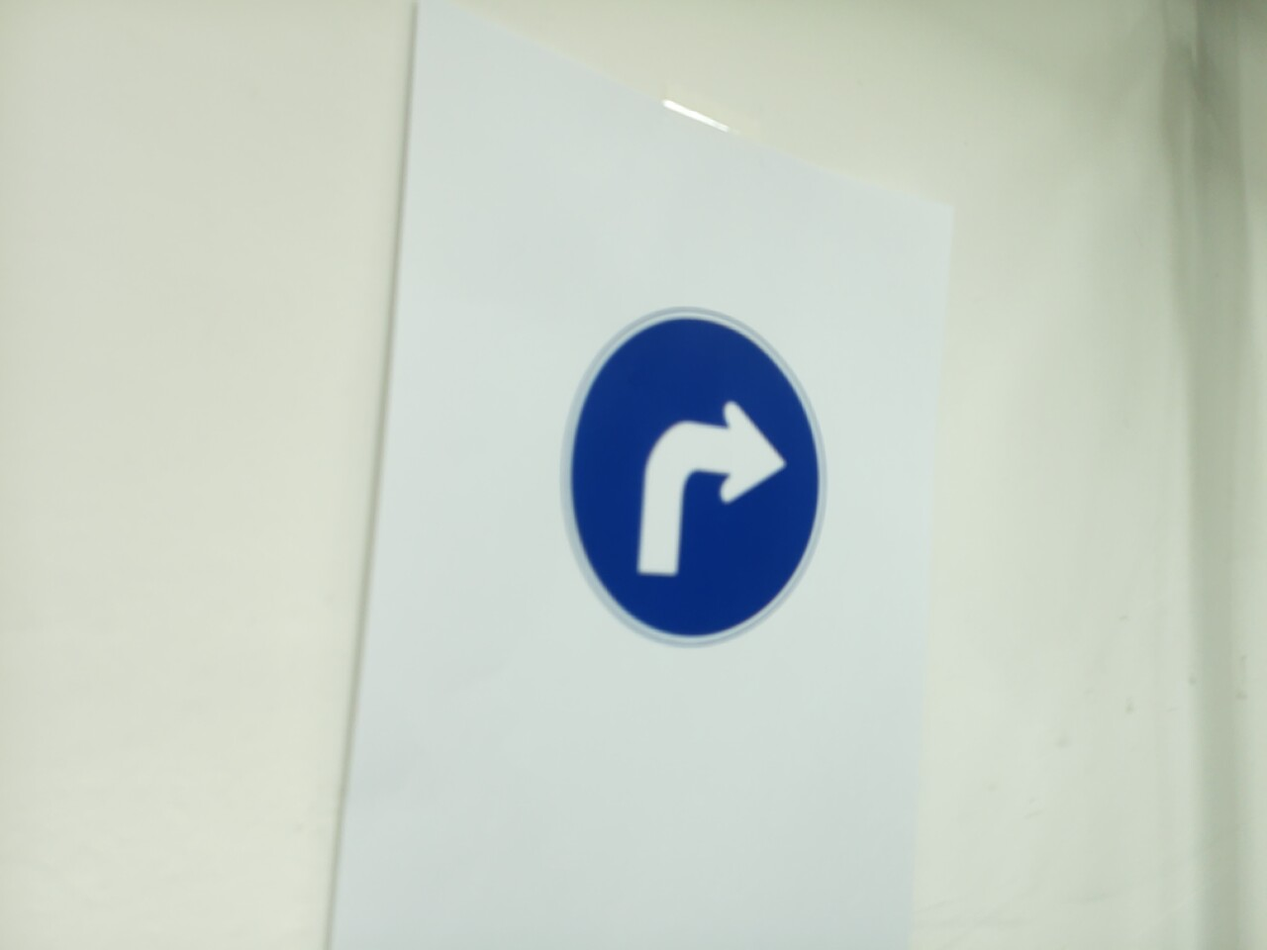right_turn: (562, 309, 828, 646)
